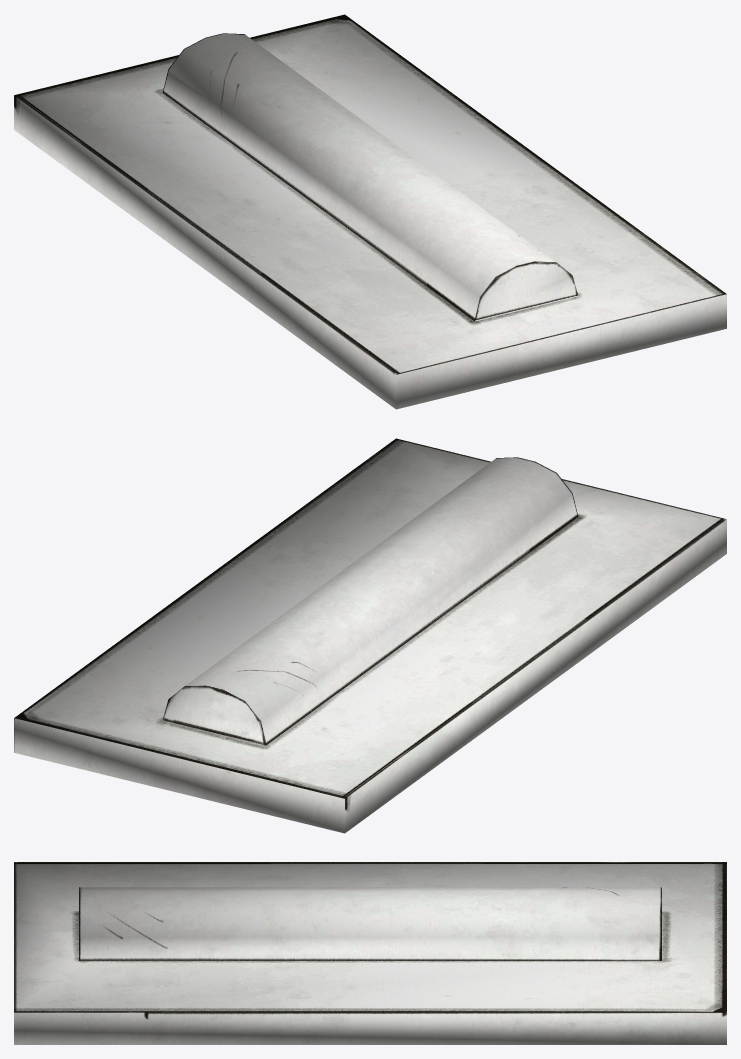
File: Ceiling1B.fbx
3 views of the same model, one above another, from view 1: azimuth 30°, elevation 25°; view 2: azimuth 150°, elevation 25°; view 3: azimuth 270°, elevation 25° (orthographic). The views are drawn at different scales.
Parts seen in each view (by area): view 1: Ceiling.001; view 2: Ceiling.001; view 3: Ceiling.001.
Part boxes in pixels (left/top/right/bottom): Ceiling.001: left=14, top=14, right=726, bottom=409; Ceiling.001: left=14, top=438, right=726, bottom=833; Ceiling.001: left=14, top=862, right=726, bottom=1044.
Bounding box in the file's own units: 200 × 45.91 × 400.
